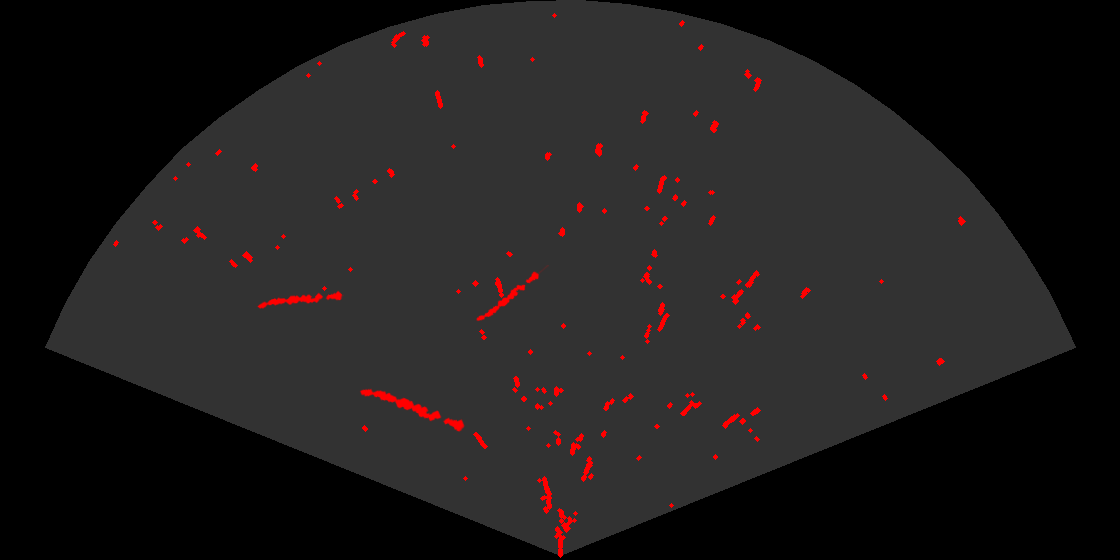chain: (358, 387, 466, 433), (475, 265, 549, 323), (255, 289, 344, 310)
